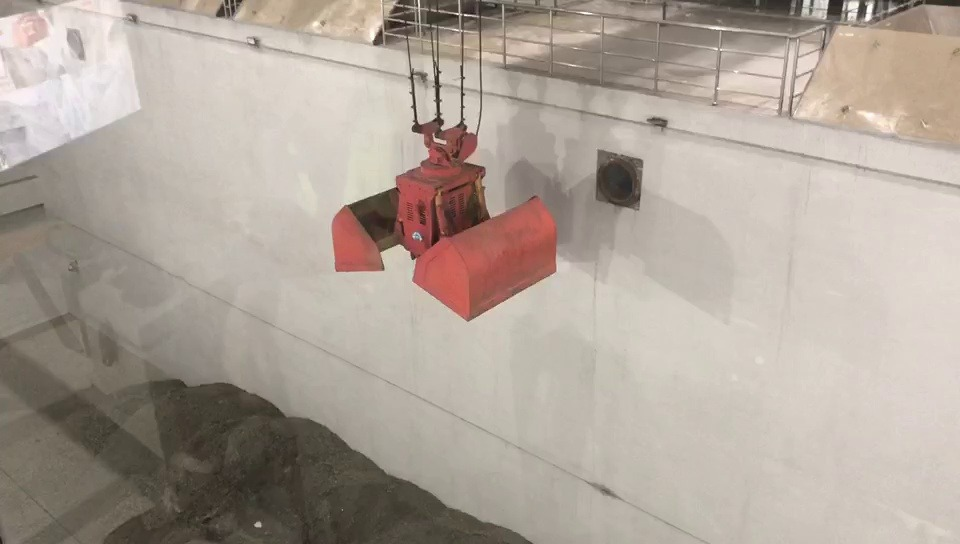grab: (327, 116, 561, 324)
